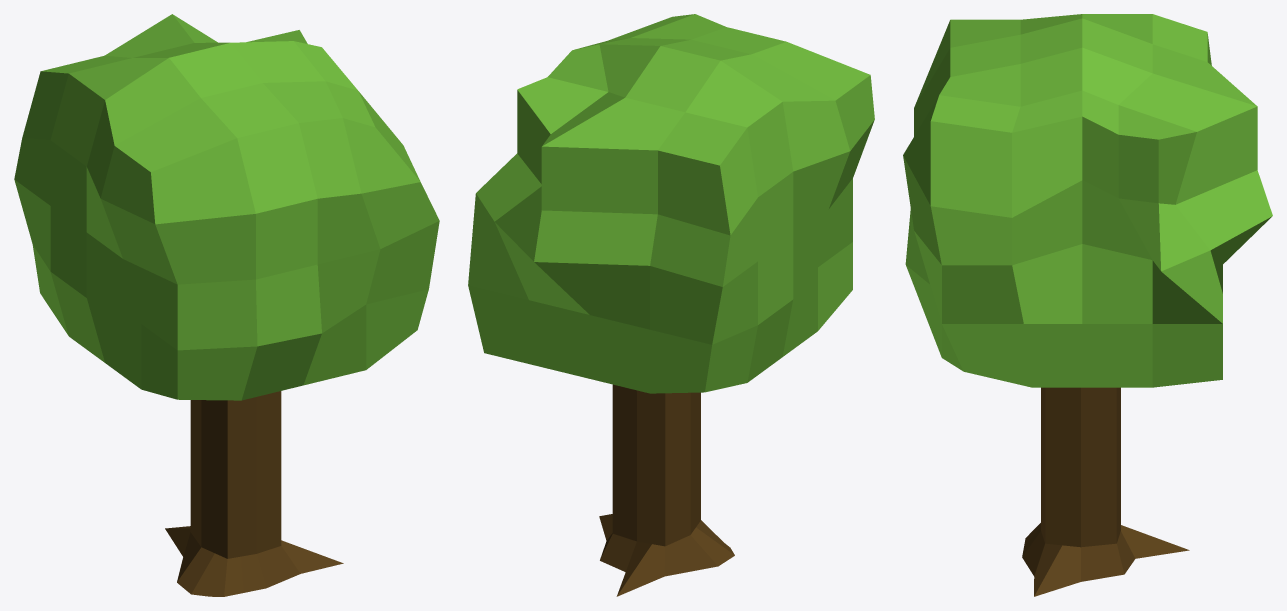
Rendered from tree.fbx.
3 renders of one model, left to right at view 1: azimuth 30°, elevation 25°; view 2: azimuth 150°, elevation 25°; view 3: azimuth 270°, elevation 25°, orthographic. The views are drawn at different scales.
Parts seen in each view (by area): view 1: tree; view 2: tree; view 3: tree.
Part boxes in pixels (x1,y1,x2,y2): tree: (14,14,439,596); tree: (468,14,874,596); tree: (903,14,1272,596).
Bounding box in the file's own units: 320 × 513 × 339.
